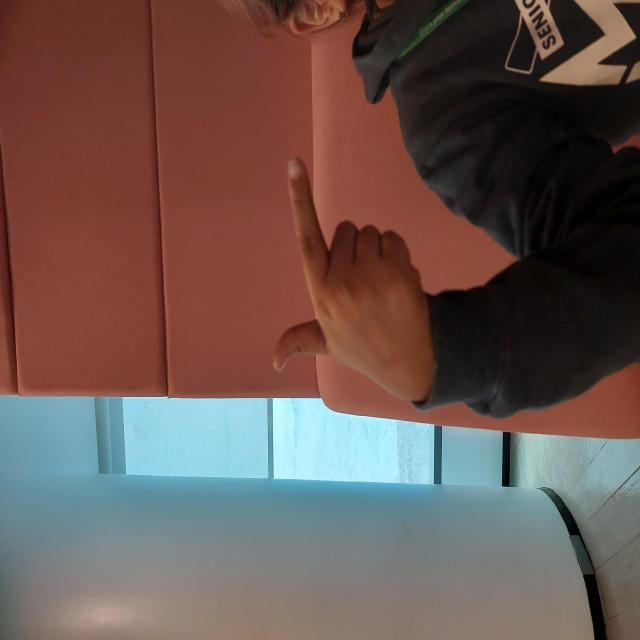G: (233, 266, 491, 435)
